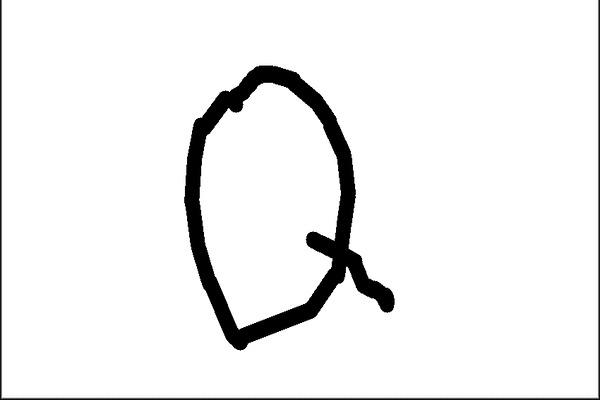Q: (164, 54, 397, 354)
